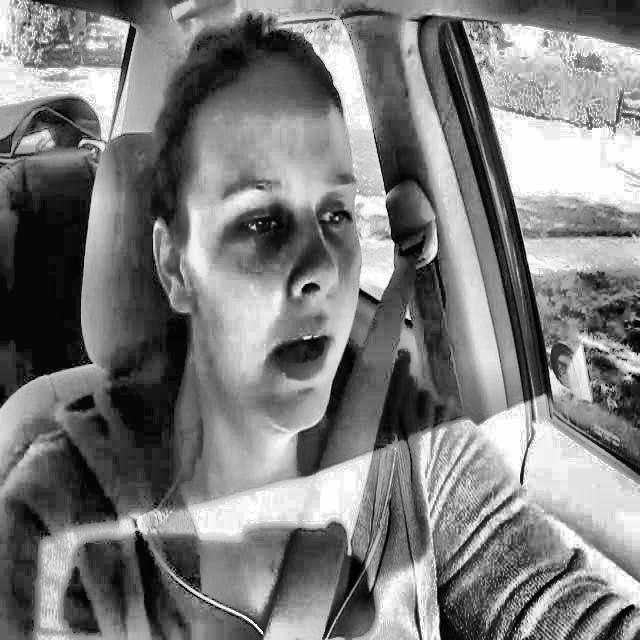open_eyes: (224, 199, 291, 252), (305, 196, 363, 249)
open_mouth: (253, 312, 347, 396)
